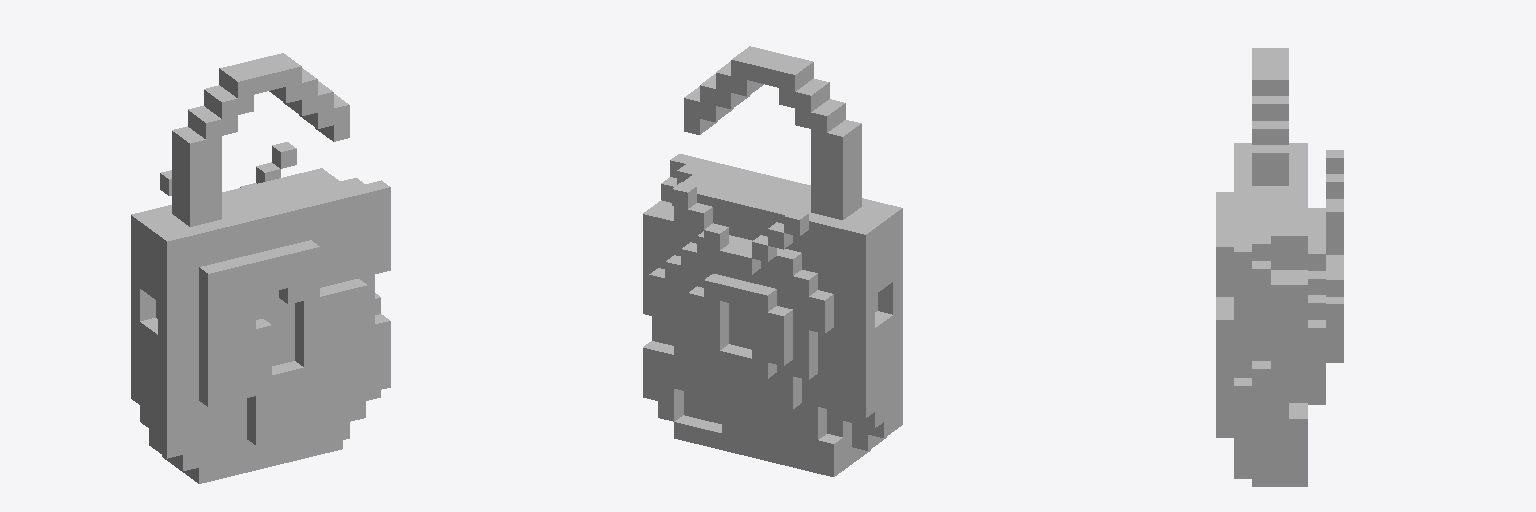
File: Candado Fase 2.obj
3 views of the same model, side by side, from view 1: azimuth 30°, elevation 25°; view 2: azimuth 150°, elevation 25°; view 3: azimuth 270°, elevation 25° (orthographic).
Parts seen in each view (by area): view 1: object 1; view 2: object 1; view 3: object 1.
Part boxes in pixels (left/top/right/bottom): object 1: left=131, top=53, right=390, bottom=483; object 1: left=643, top=46, right=902, bottom=476; object 1: left=1216, top=48, right=1343, bottom=486.
Bounding box in the file's own units: 1.4 × 2.3 × 0.7.